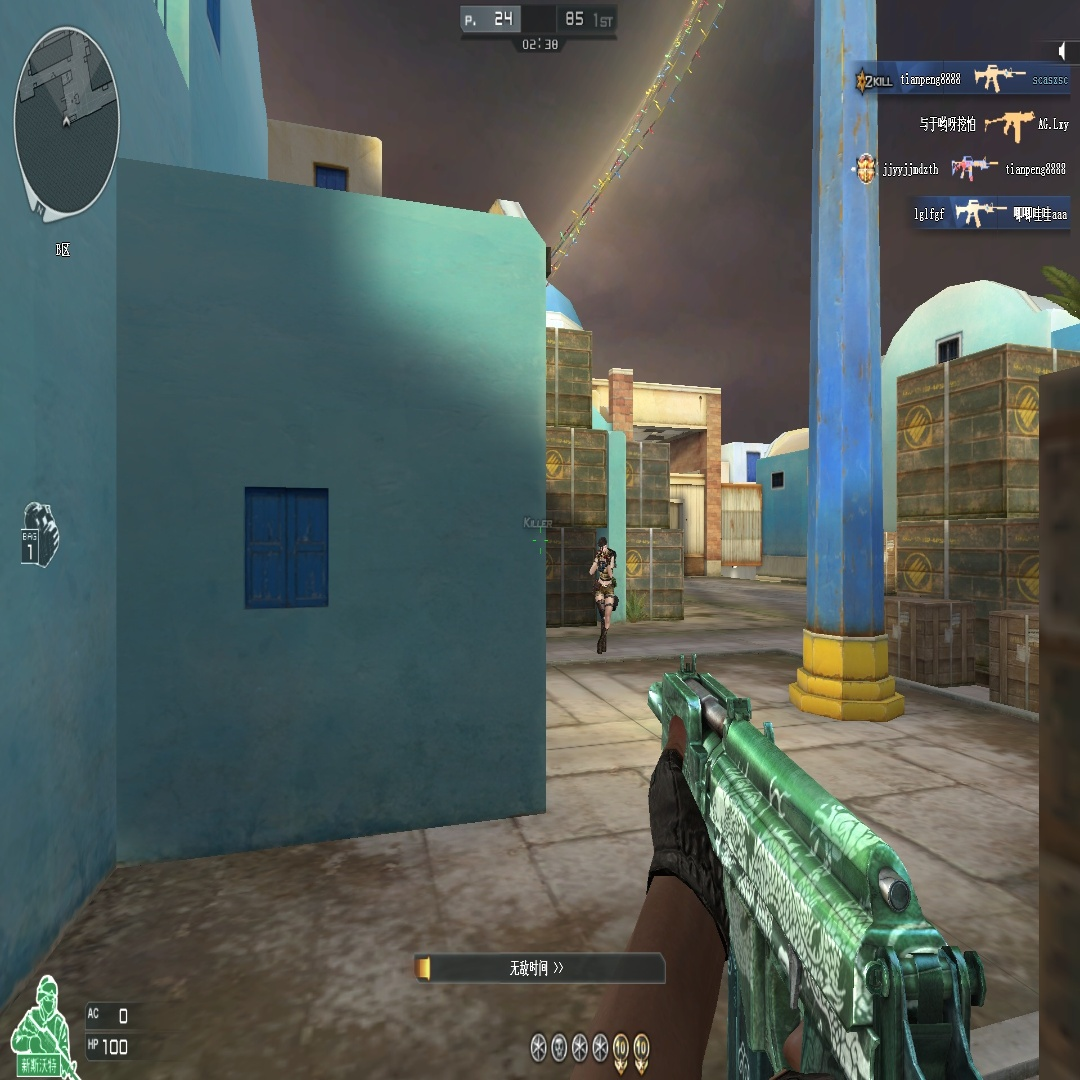head: (597, 536, 608, 552)
p: (589, 537, 617, 654)
